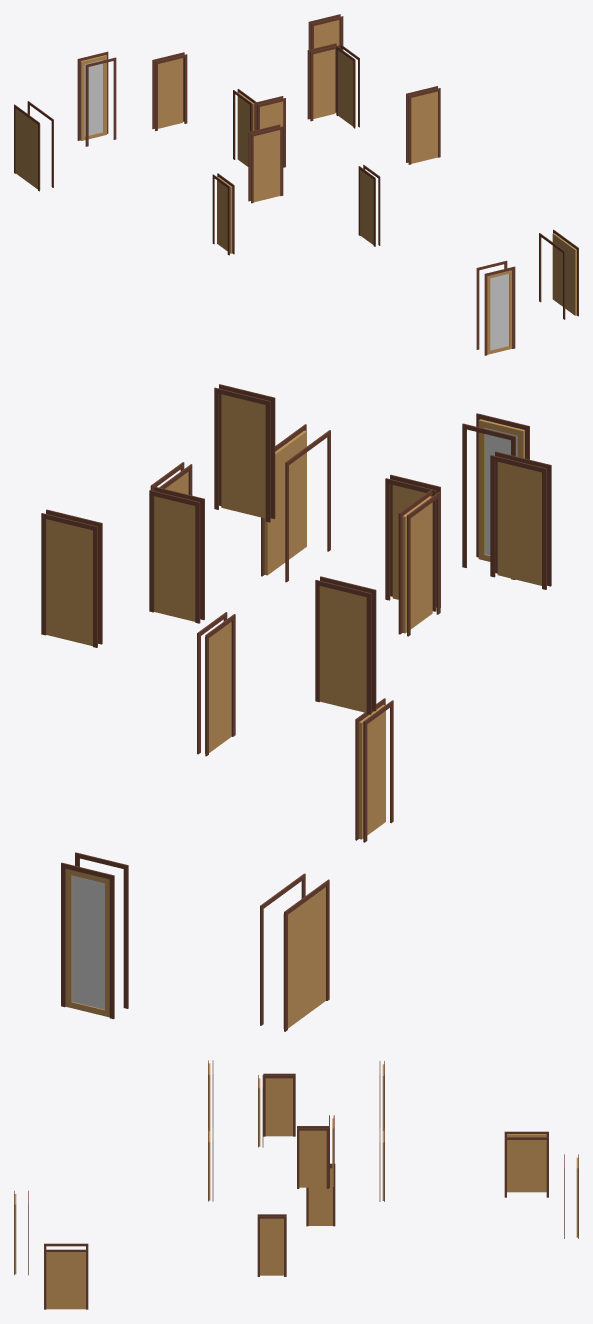
The model's file is IfcDoor.fbx.
The picture shows the model from 3 angles, top to bottom: view 1: azimuth 30°, elevation 25°; view 2: azimuth 150°, elevation 25°; view 3: azimuth 270°, elevation 25°; orthographic projection. The views are drawn at different scales.
Visible parts, largest first — view 1: M_Single-Glass 1:171853 (×4), M_Single-Glass 1:171975 (×4), M_Single-Flush:159734 (×2), M_Single-Flush:150478 (×2), M_Single-Flush:150378 (×2), M_Single-Flush:146596 (×2), M_Single-Flush:204034 (×2), M_Single-Flush:160208 (×2), M_Single-Flush:146678, M_Single-Flush:150173 (×2), M_Single-Flush:150257 (×2), M_Single-Flush:160065 (+2 smaller); view 2: M_Single-Glass 1:171853 (×4), M_Single-Flush:150478 (×3), M_Single-Flush:150378 (×3), M_Single-Flush:159734 (×3), M_Single-Flush:159834 (×3), M_Single-Flush:204034 (×3), M_Single-Flush:146678 (×3), M_Single-Flush:160065 (×3), M_Single-Flush:146596 (×2), M_Single-Glass 1:171975 (×4), M_Single-Flush:150257 (×2), M_Single-Flush:150173 (×2) (+1 smaller); view 3: M_Single-Flush:146596 (×2), M_Single-Flush:146678 (×2), M_Single-Flush:160065 (×2), M_Single-Flush:160208 (×2), M_Single-Flush:150173 (×2), M_Single-Flush:150257.
Boxes of the visible parts, x1,y1,x2,y2 form: M_Single-Glass 1:171853 (×4): [77, 51, 116, 146]; M_Single-Glass 1:171975 (×4): [476, 260, 515, 355]; M_Single-Flush:159734 (×2): [251, 126, 283, 203]; M_Single-Flush:150478 (×2): [408, 88, 440, 164]; M_Single-Flush:150378 (×2): [155, 54, 187, 131]; M_Single-Flush:146596 (×2): [539, 233, 576, 319]; M_Single-Flush:204034 (×2): [307, 43, 336, 119]; M_Single-Flush:160208 (×2): [336, 46, 355, 128]; M_Single-Flush:146678: [16, 109, 40, 189]; M_Single-Flush:150173 (×2): [358, 166, 375, 246]; M_Single-Flush:150257 (×2): [212, 174, 232, 255]; M_Single-Flush:160065: [237, 92, 254, 166]; M_Single-Glass 1:171853 (×4): [61, 852, 128, 1019]; M_Single-Flush:150478 (×3): [214, 384, 275, 522]; M_Single-Flush:150378 (×3): [315, 576, 376, 714]; M_Single-Flush:159734 (×3): [490, 451, 551, 589]; M_Single-Flush:159834 (×3): [41, 509, 102, 647]; M_Single-Flush:204034 (×3): [149, 486, 204, 623]; M_Single-Flush:146678 (×3): [260, 873, 329, 1031]; M_Single-Flush:160065 (×3): [398, 490, 440, 636]; M_Single-Flush:146596 (×2): [264, 430, 330, 582]; M_Single-Glass 1:171975 (×4): [462, 413, 529, 579]; M_Single-Flush:150257 (×2): [359, 700, 393, 842]; M_Single-Flush:150173 (×2): [205, 614, 235, 756]; M_Single-Flush:146596 (×2): [44, 1249, 88, 1309]; M_Single-Flush:146678 (×2): [504, 1134, 548, 1197]; M_Single-Flush:160065 (×2): [263, 1075, 295, 1136]; M_Single-Flush:160208 (×2): [297, 1128, 328, 1188]; M_Single-Flush:150173 (×2): [257, 1216, 286, 1276]; M_Single-Flush:150257: [308, 1168, 332, 1225].
Bounding box in the file's own units: 8.85 × 17.85 × 5.21.
